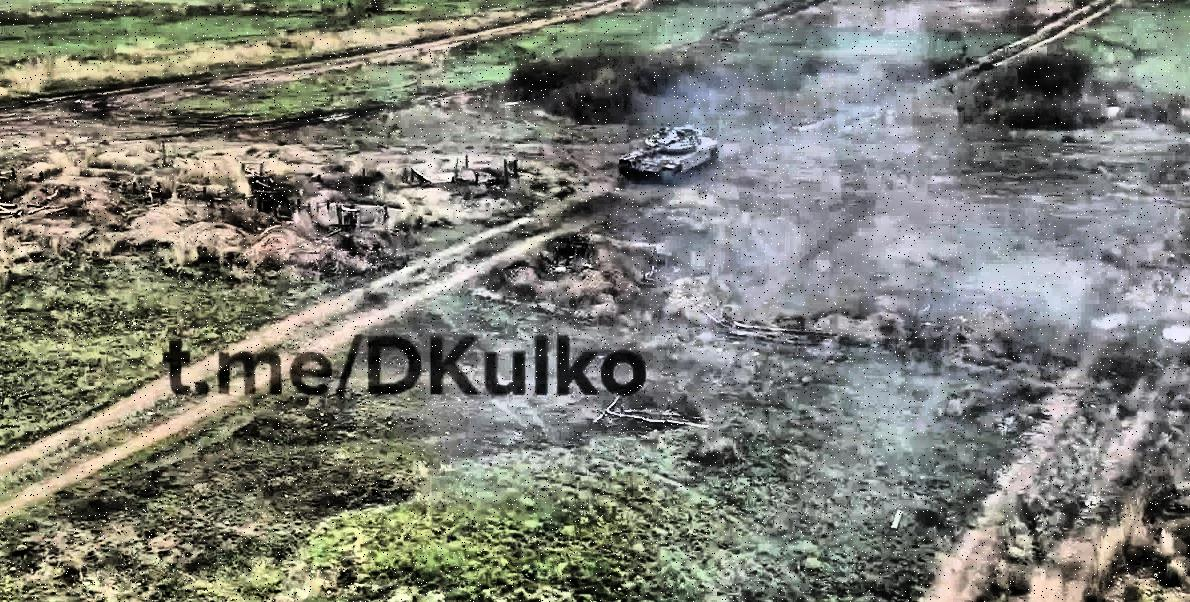military-vehicle: (618, 124, 719, 185)
